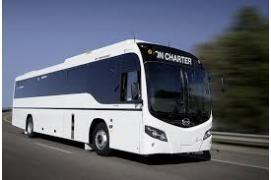bus: (12, 37, 215, 159)
